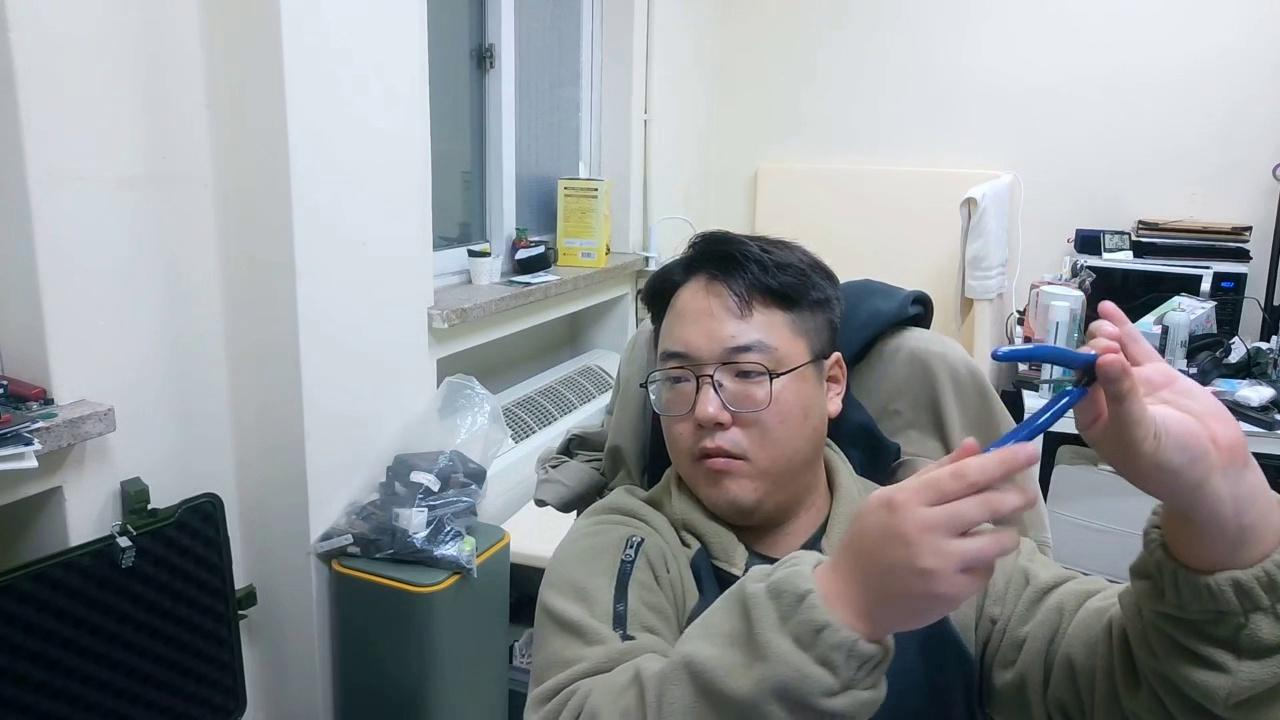blue_pliers: (980, 340, 1103, 456)
